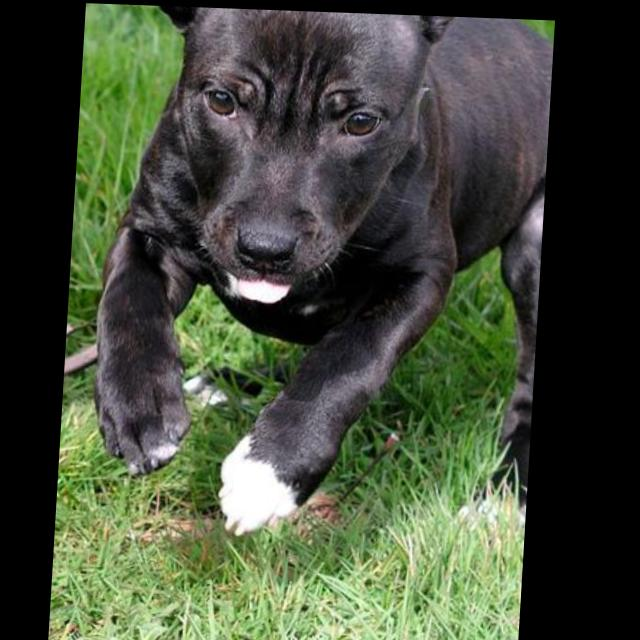staffford: (62, 4, 555, 545)
